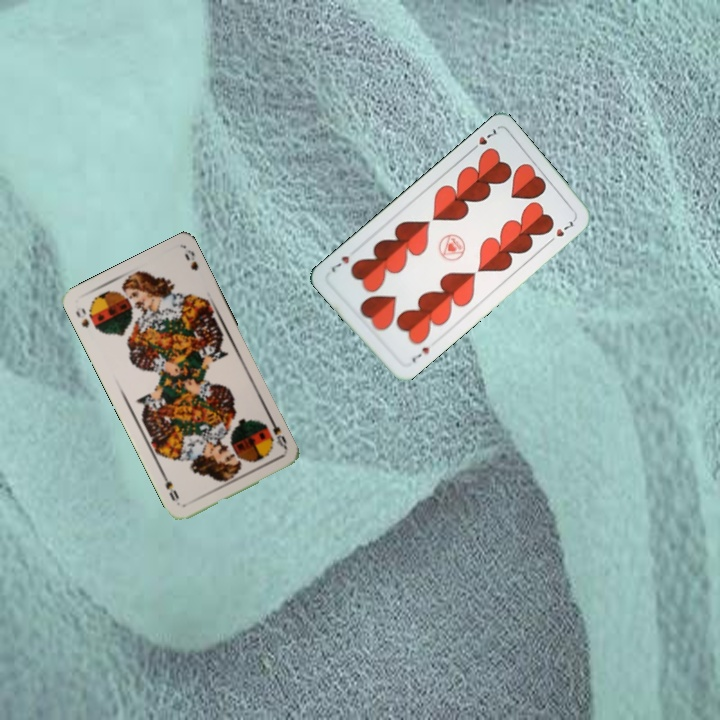H7: (466, 124, 499, 155), (407, 343, 432, 365)
SO: (266, 415, 290, 452), (72, 304, 92, 330)
